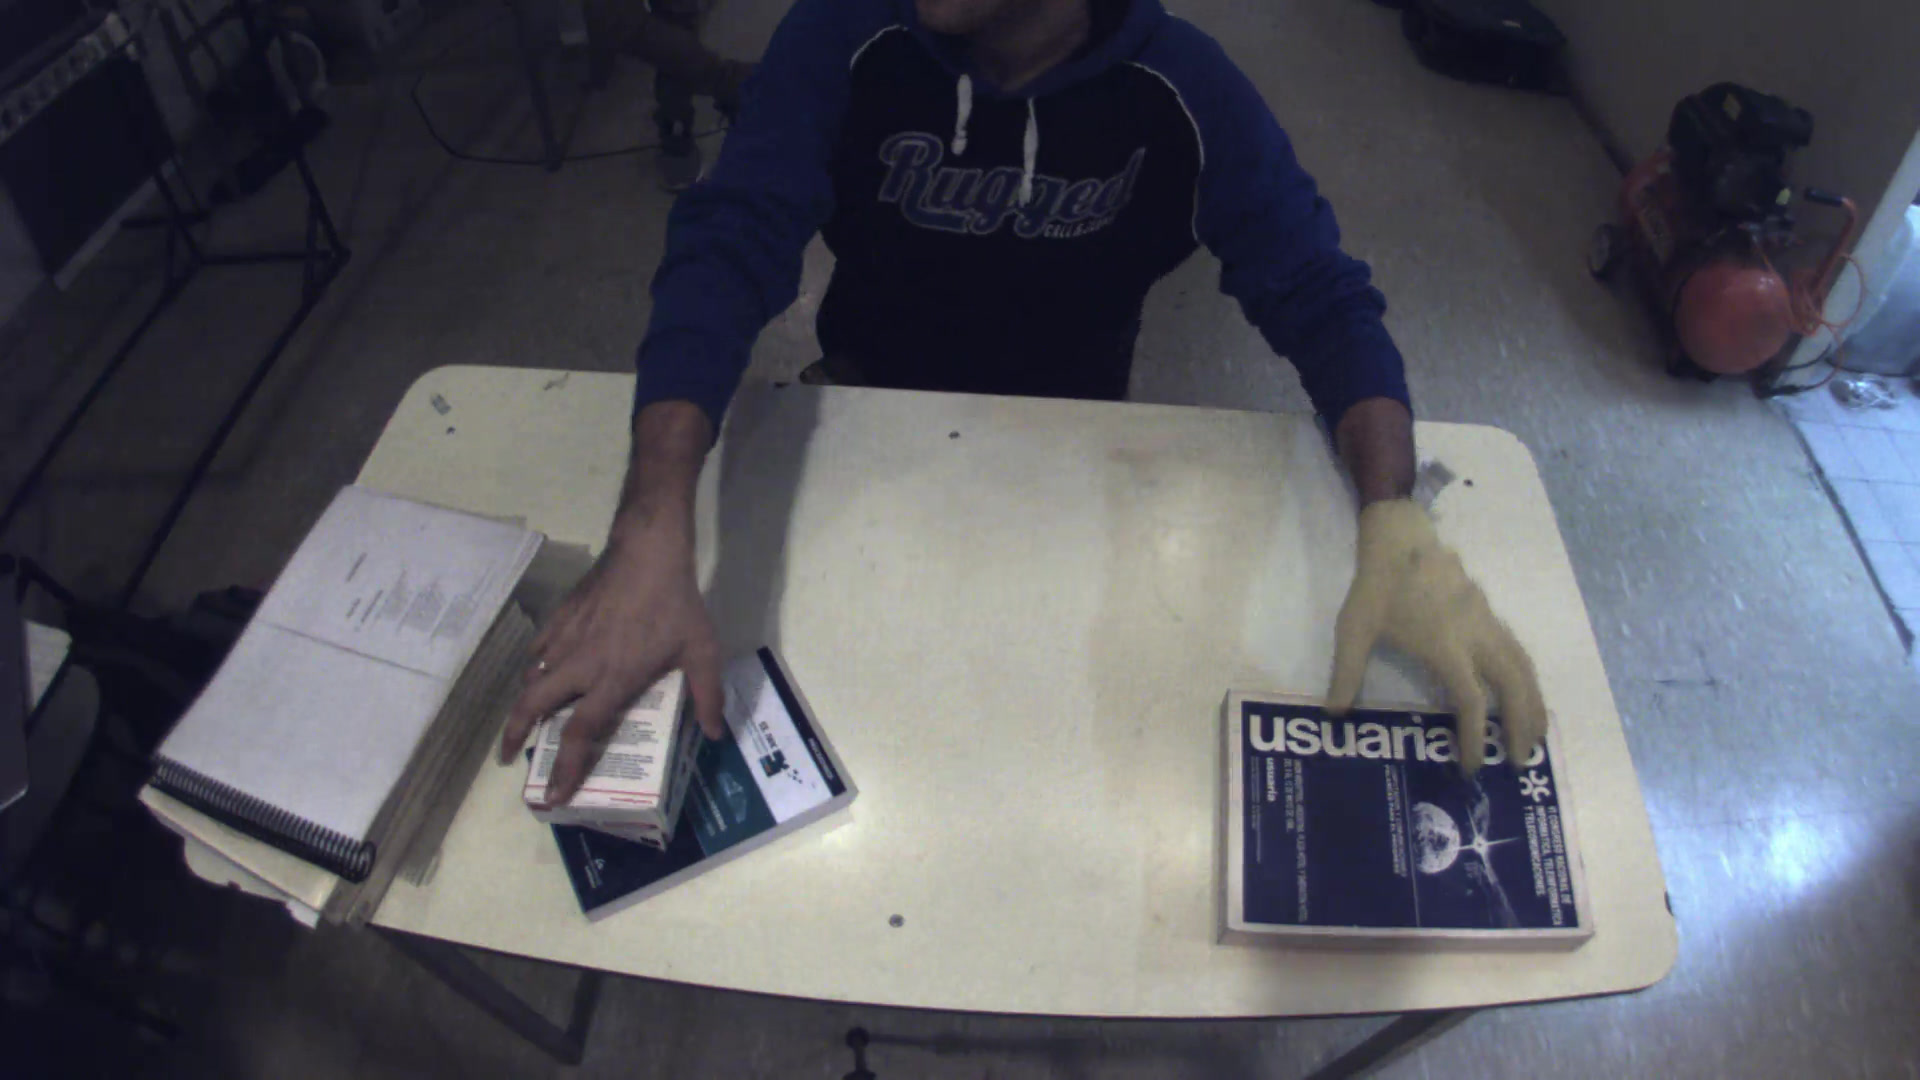hand: (472, 537, 750, 828), (1325, 495, 1561, 793)
